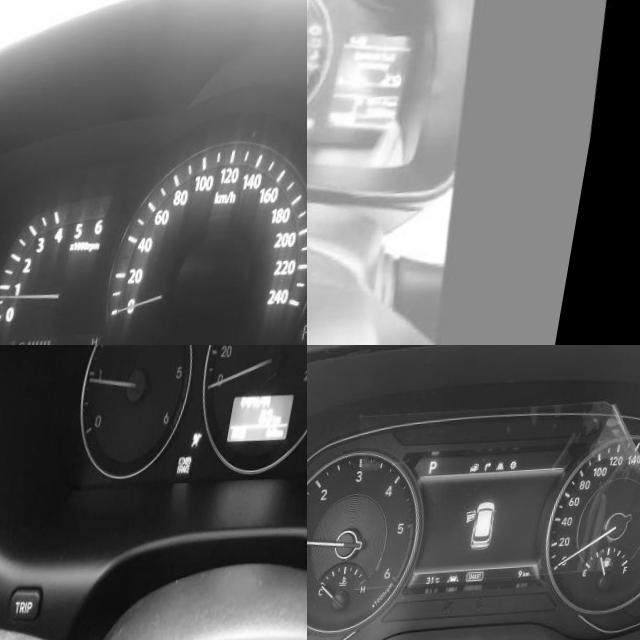Engine cooling system: (316, 47, 327, 58)
